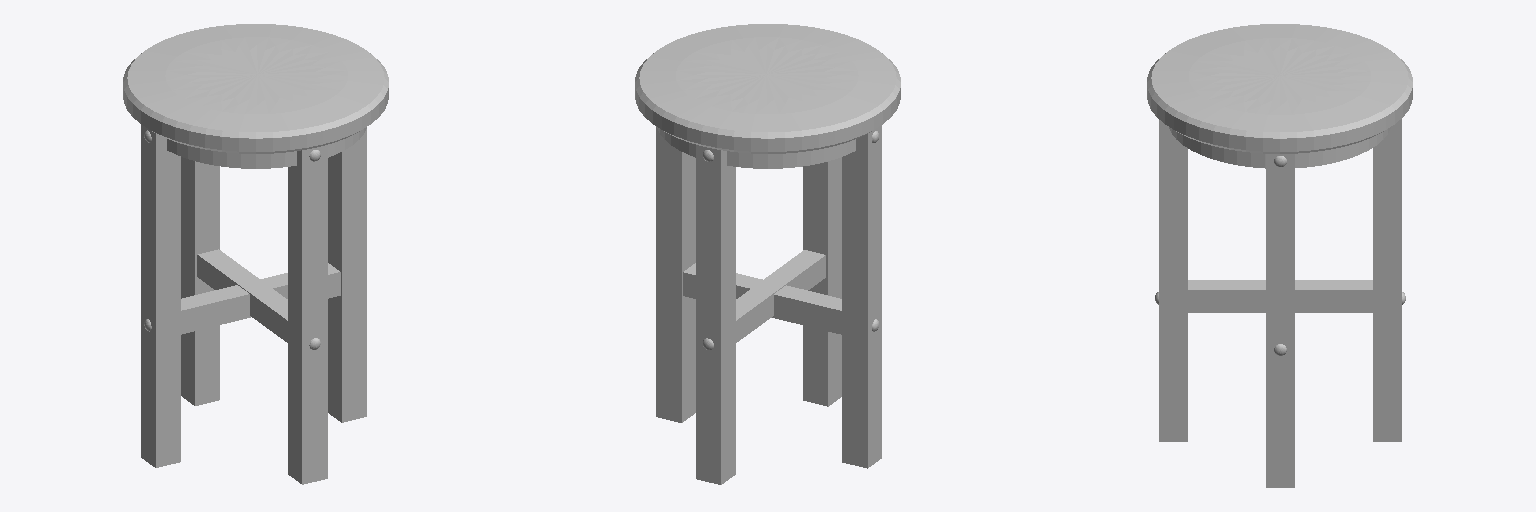
Rendered from WoodenStoolObj.obj.
The picture shows the model from 3 angles: view 1: azimuth 30°, elevation 25°; view 2: azimuth 150°, elevation 25°; view 3: azimuth 270°, elevation 25°; orthographic projection.
Visible parts, largest first — view 1: wooden_stool1; view 2: wooden_stool1; view 3: wooden_stool1.
Part boxes in pixels (x1,y1,x2,y2): wooden_stool1: (123, 24, 388, 484); wooden_stool1: (635, 24, 900, 484); wooden_stool1: (1147, 24, 1412, 487).
Bounding box in the file's own units: 5.79 × 8.68 × 5.79.